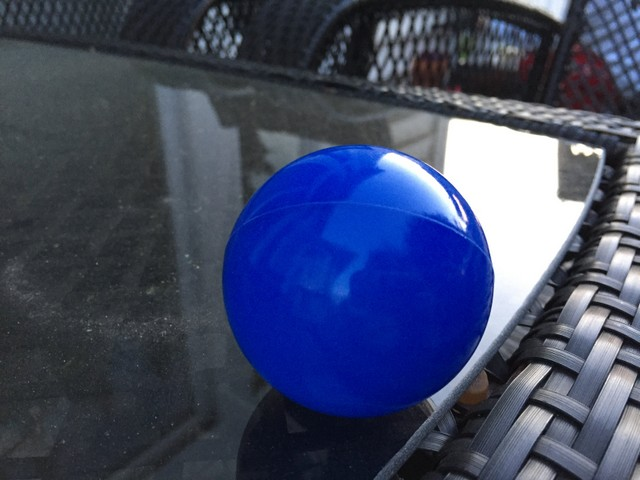ball: (219, 140, 496, 420)
